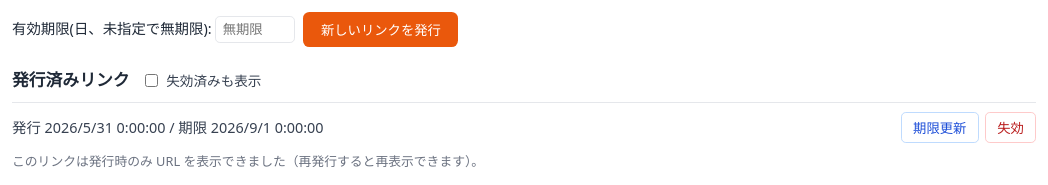
Test case: MagicLinkManager › 失効は 2 段階確認: 確定で revoke API を呼び一覧から消す
Click the button "失効".
click(1010, 128)  # box [985,112,1036,143]
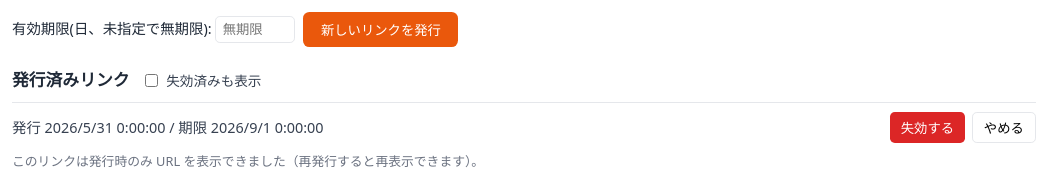
Click the button "失効する".
click(927, 128)  # box [890,112,965,143]
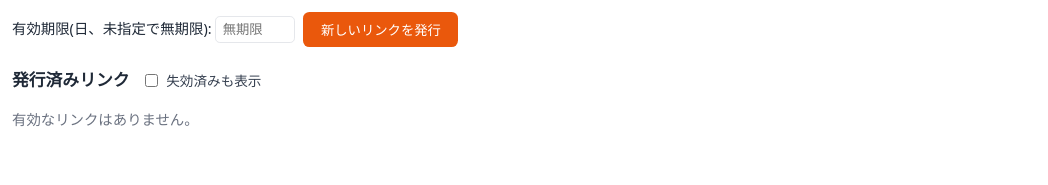
Check: the text "有効なリンクはありません。" is shown, box [12,110,199,129]
